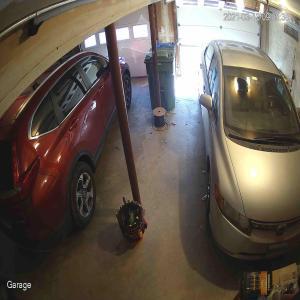garbage bin: (144, 41, 178, 114)
honda civic: (197, 37, 300, 260)
honda crv: (0, 53, 135, 248)
tool bucket: (115, 194, 149, 247)
